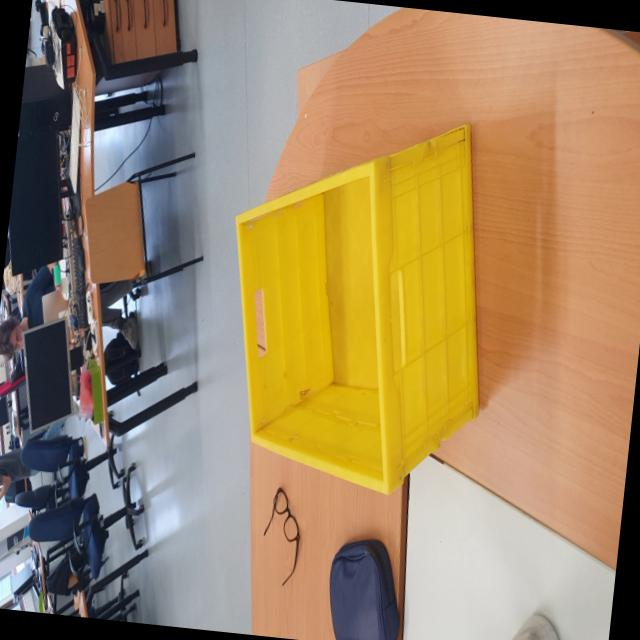box: (191, 91, 538, 508)
